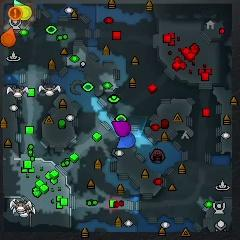Other: (8, 7, 21, 20)
p1: (116, 133, 136, 148)
p2: (13, 0, 24, 7)
p3: (112, 121, 130, 136)
p4: (15, 6, 33, 21)
p5: (1, 27, 16, 46)
